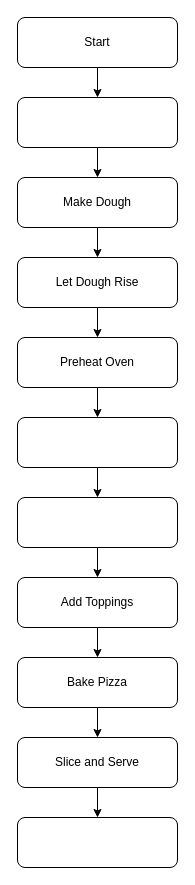
This 195x885 diagram has some shape labels left out. The centre of each missing label's shape, as x and y in pixels:
"Add Sauce" goes at point 97,522.
"End" goes at point 97,842.
"Prepare Ingredients" goes at point 97,122.
"Roll Out Dough" goes at point 97,442.
